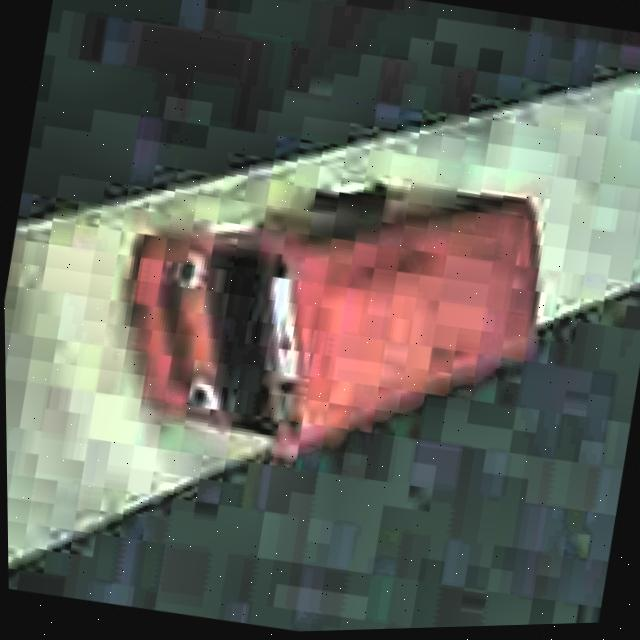bus: (99, 129, 562, 503)
